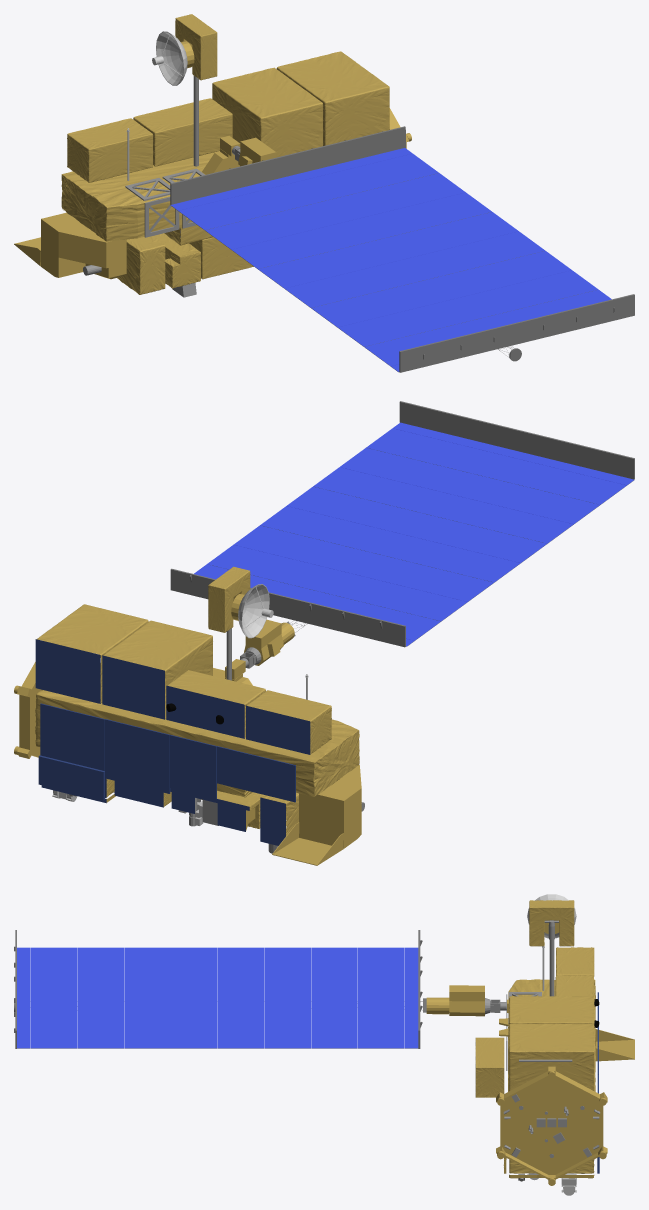
Rendered from terra.glb.
The picture shows the model from 3 angles, top to bottom: view 1: azimuth 30°, elevation 25°; view 2: azimuth 150°, elevation 25°; view 3: azimuth 270°, elevation 25°; orthographic projection. The views are drawn at different scales.
Parts seen in each view (by area): view 1: Terra_vFINAL [Layer17], Terra_vFINAL [Layer16], Terra_vFINAL [Layer1], Terra_vFINAL [Layer13], Terra_vFINAL [Layer18], Terra_vFINAL [Layer2], Terra_vFINAL [Layer11], Terra_vFINAL [Layer12], Terra_vFINAL [Layer19], Terra_vFINAL [Layer3], Terra_vFINAL [Layer9], Terra_vFINAL [Layer4] (+2 smaller); view 2: Terra_vFINAL [Layer17], Terra_vFINAL [Layer15], Terra_vFINAL [Layer16], Terra_vFINAL [Layer18], Terra_vFINAL [Layer1], Terra_vFINAL [Layer13], Terra_vFINAL [Layer2], Terra_vFINAL [Layer11], Terra_vFINAL [Layer9], Terra_vFINAL [Layer12], Terra_vFINAL [Layer20], Terra_vFINAL [Layer19]; view 3: Terra_vFINAL [Layer17], Terra_vFINAL [Layer18], Terra_vFINAL [Layer2], Terra_vFINAL [Layer13], Terra_vFINAL [Layer19], Terra_vFINAL [Layer10], Terra_vFINAL [Layer9], Terra_vFINAL [Layer16], Terra_vFINAL [Layer11], Terra_vFINAL [Layer1], Terra_vFINAL [Layer12], Terra_vFINAL [Layer21].
Boxes of the visible parts, x1,y1,x2,y2 form: Terra_vFINAL [Layer17]: (171,148,611,371); Terra_vFINAL [Layer16]: (170,126,634,372); Terra_vFINAL [Layer1]: (61,151,219,245); Terra_vFINAL [Layer13]: (212,67,322,157); Terra_vFINAL [Layer18]: (14,41,411,279); Terra_vFINAL [Layer2]: (276,51,389,145); Terra_vFINAL [Layer11]: (67,118,152,182); Terra_vFINAL [Layer12]: (133,98,232,166); Terra_vFINAL [Layer19]: (83,75,240,297); Terra_vFINAL [Layer3]: (117,236,165,294); Terra_vFINAL [Layer9]: (175,14,217,80); Terra_vFINAL [Layer4]: (153,233,200,288); Terra_vFINAL [Layer17]: (194,422,634,646); Terra_vFINAL [Layer15]: (35,639,310,845); Terra_vFINAL [Layer16]: (170,401,634,647); Terra_vFINAL [Layer18]: (14,593,361,865); Terra_vFINAL [Layer1]: (35,673,359,797); Terra_vFINAL [Layer13]: (103,620,212,718); Terra_vFINAL [Layer2]: (37,604,148,702); Terra_vFINAL [Layer11]: (247,690,331,754); Terra_vFINAL [Layer9]: (208,566,250,632); Terra_vFINAL [Layer12]: (167,670,265,737); Terra_vFINAL [Layer20]: (238,584,273,638); Terra_vFINAL [Layer19]: (69,628,364,853); Terra_vFINAL [Layer17]: (17,947,418,1048); Terra_vFINAL [Layer18]: (426,920,634,1185); Terra_vFINAL [Layer2]: (509,1024,594,1091); Terra_vFINAL [Layer13]: (509,996,594,1025); Terra_vFINAL [Layer19]: (485,920,600,1181); Terra_vFINAL [Layer10]: (475,1037,504,1097); Terra_vFINAL [Layer9]: (529,900,574,946); Terra_vFINAL [Layer16]: (14,930,426,1048); Terra_vFINAL [Layer11]: (556,947,594,995); Terra_vFINAL [Layer1]: (508,979,595,1091); Terra_vFINAL [Layer12]: (555,975,593,996); Terra_vFINAL [Layer21]: (527,946,576,1195).
Bounding box in the file's own units: 13622 × 10277 × 26054.
